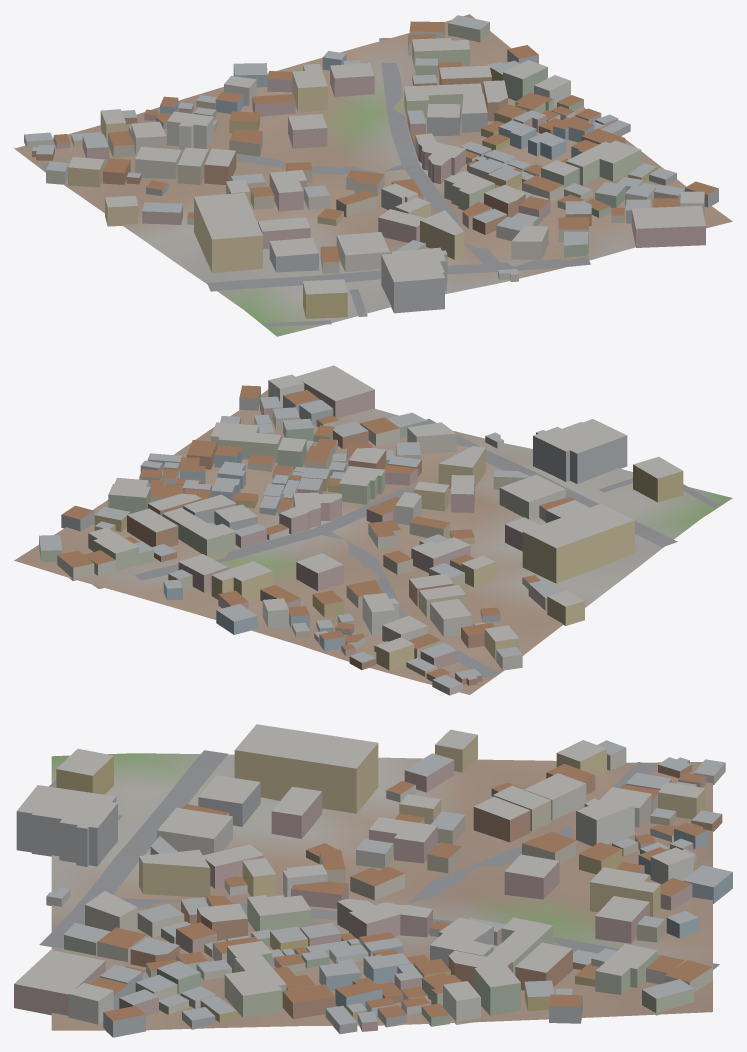
3 renders of one model, top to bottom at view 1: azimuth 30°, elevation 25°; view 2: azimuth 150°, elevation 25°; view 3: azimuth 270°, elevation 25°, orthographic. The views are drawn at different scales.
Visible parts, largest first — view 1: Lo; view 2: Lo; view 3: Lo.
Part boxes in pixels (x1,y1,x2,y2): Lo: (14, 14, 732, 336); Lo: (14, 365, 732, 695); Lo: (14, 724, 732, 1037).
Bounding box in the file's own units: 269 × 21.05 × 278.
